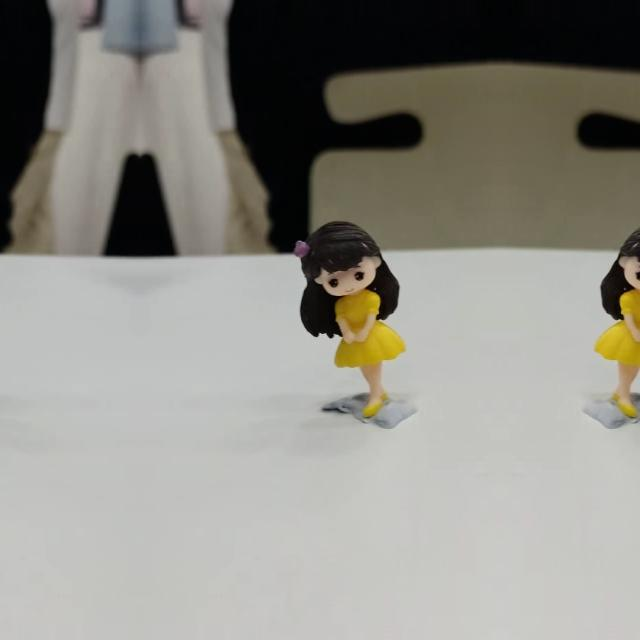woman head: (288, 214, 382, 298), (618, 213, 640, 298)
